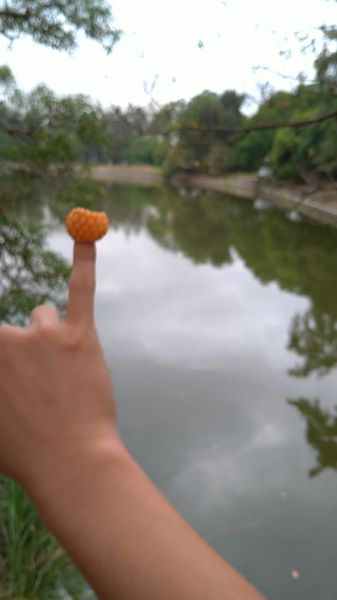eggs: (65, 206, 110, 242)
